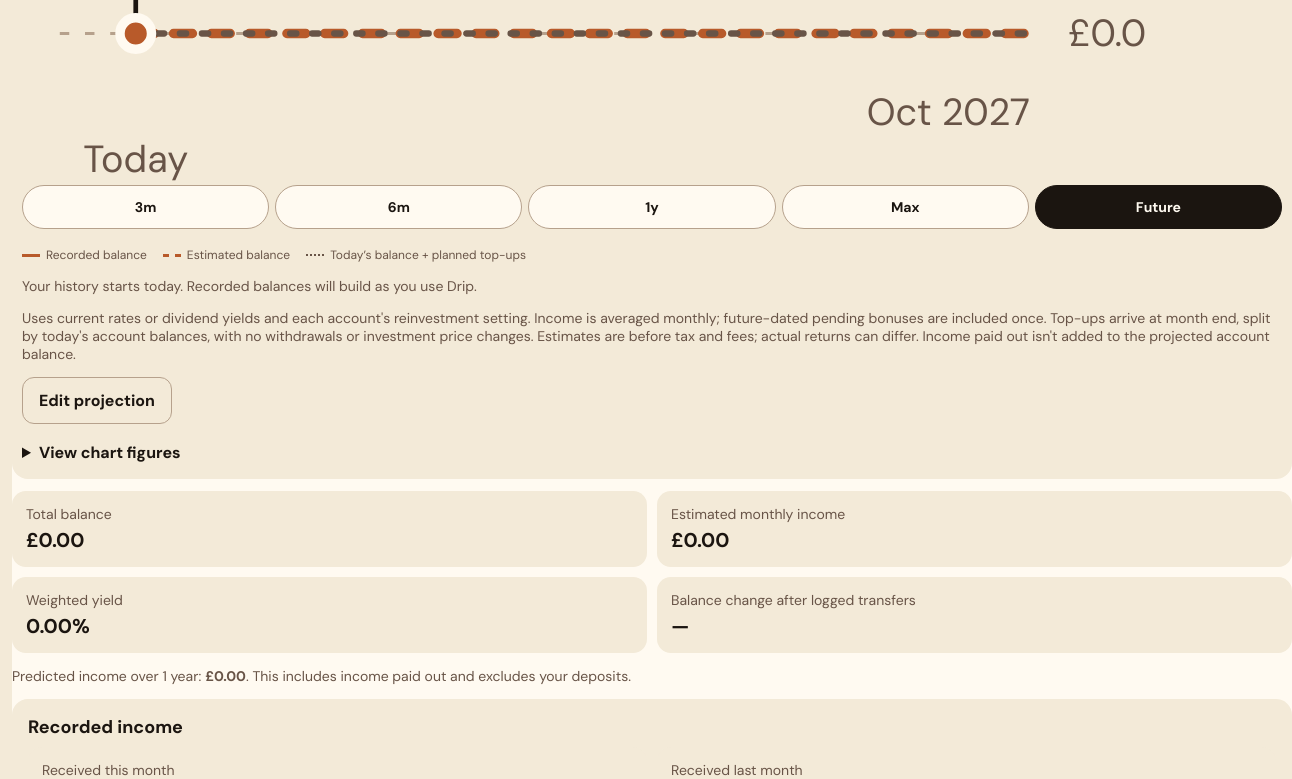
Test: projection save completion › retains entered assumptions after a false save and allows one successful retry
The width and height of the screenshot is (1292, 779).
(page scrolled)
Click the button "Edit projection". click: (97, 401)
box: [22, 377, 172, 424]
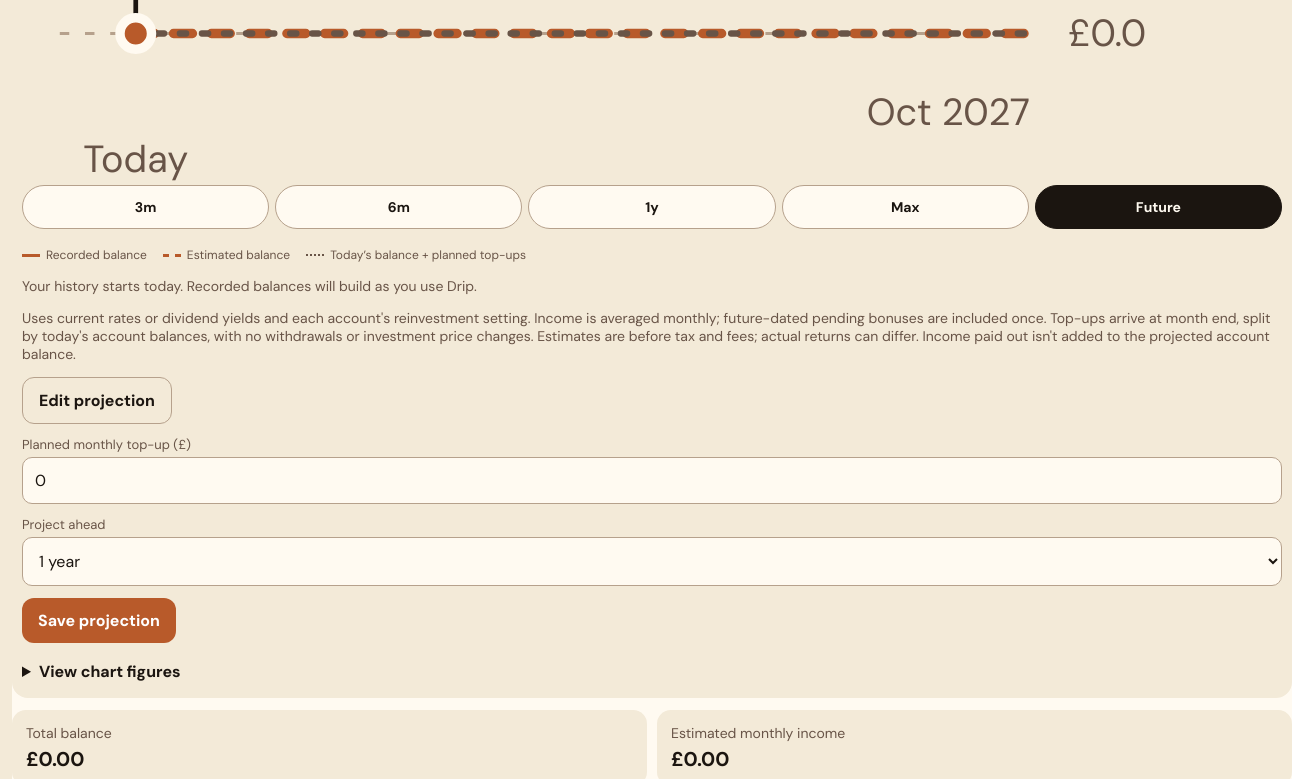
Replace the text in the number field labelled "Planned monthly top-up (£)" with "200". click: (652, 481)
box: [22, 457, 1282, 504]
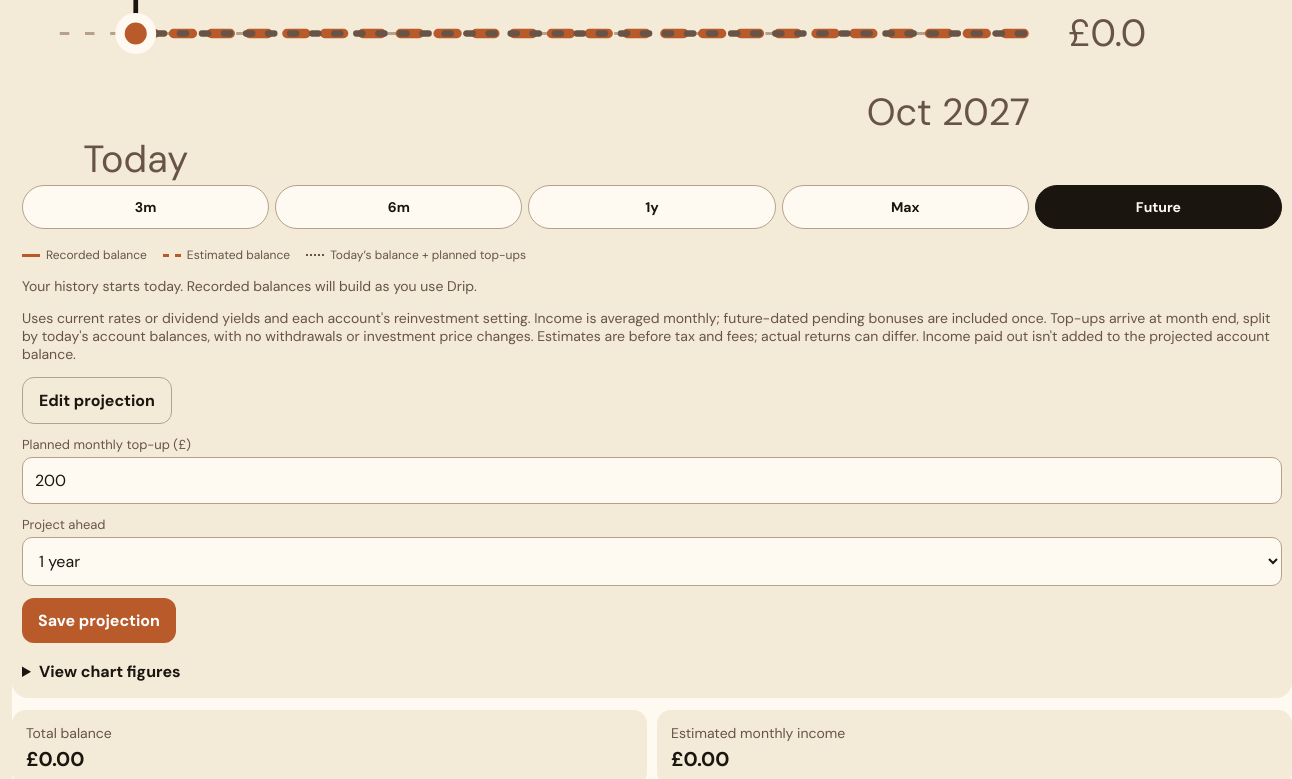
Select "3 years" in the dropdown labelled "Project ahead". click: (652, 562)
box: [22, 537, 1282, 586]
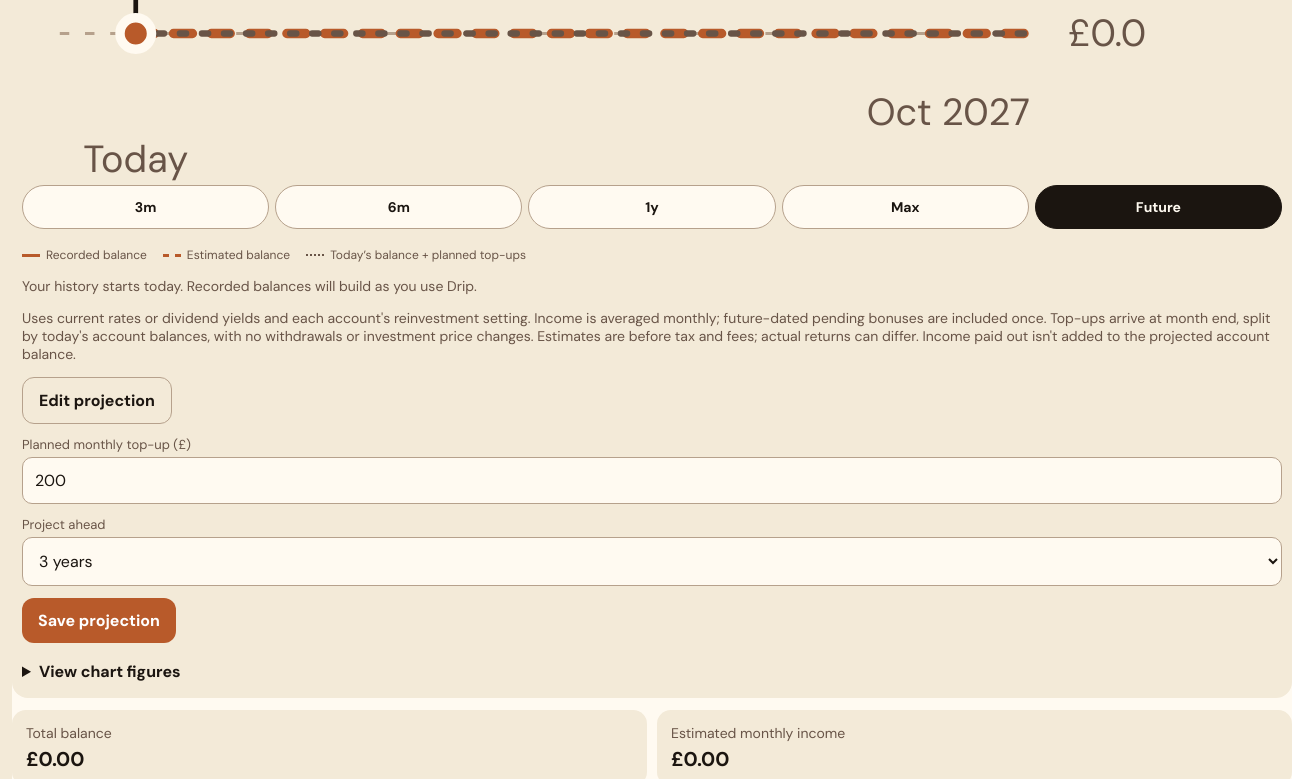
Click the button "Save projection". click: (99, 621)
box: [22, 598, 176, 643]
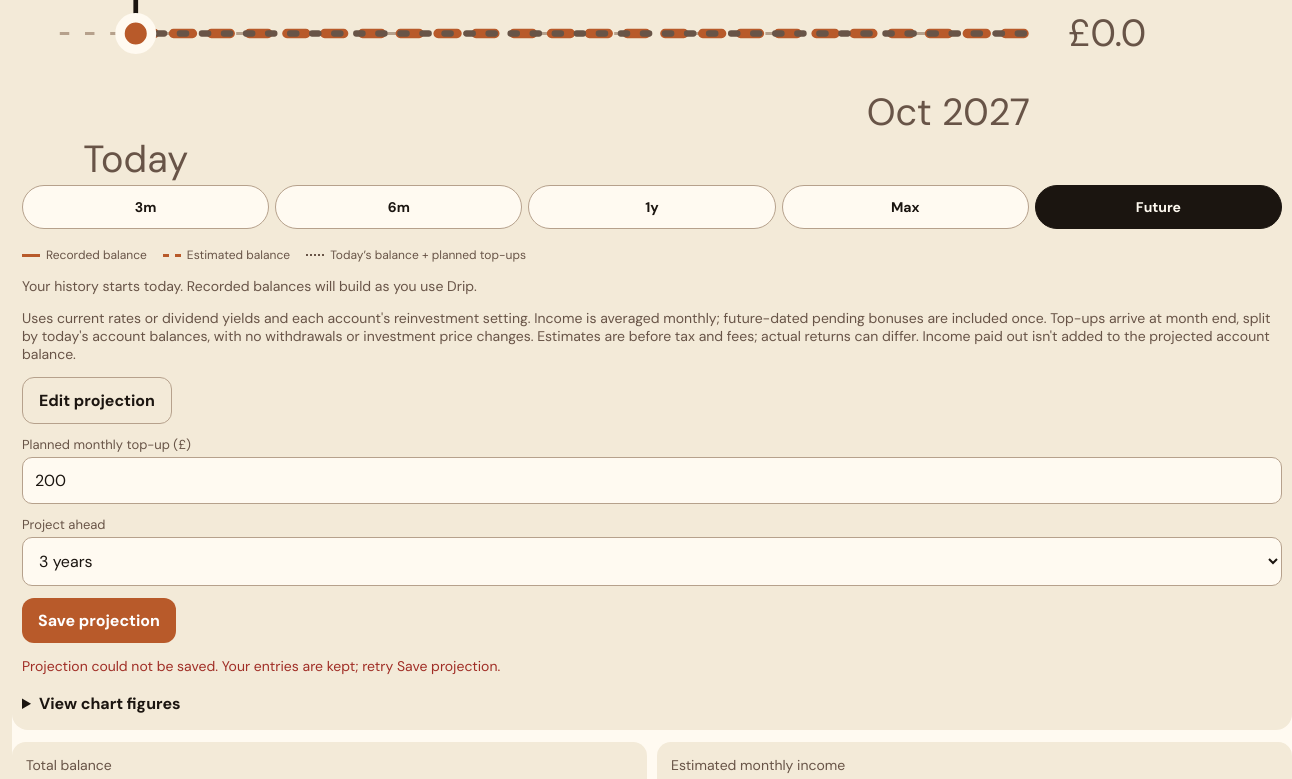
Expected: the message shows "Your entries are kept; retry", [22, 657, 500, 675]
Click the button "Save projection". click: (99, 621)
box: [22, 598, 176, 643]
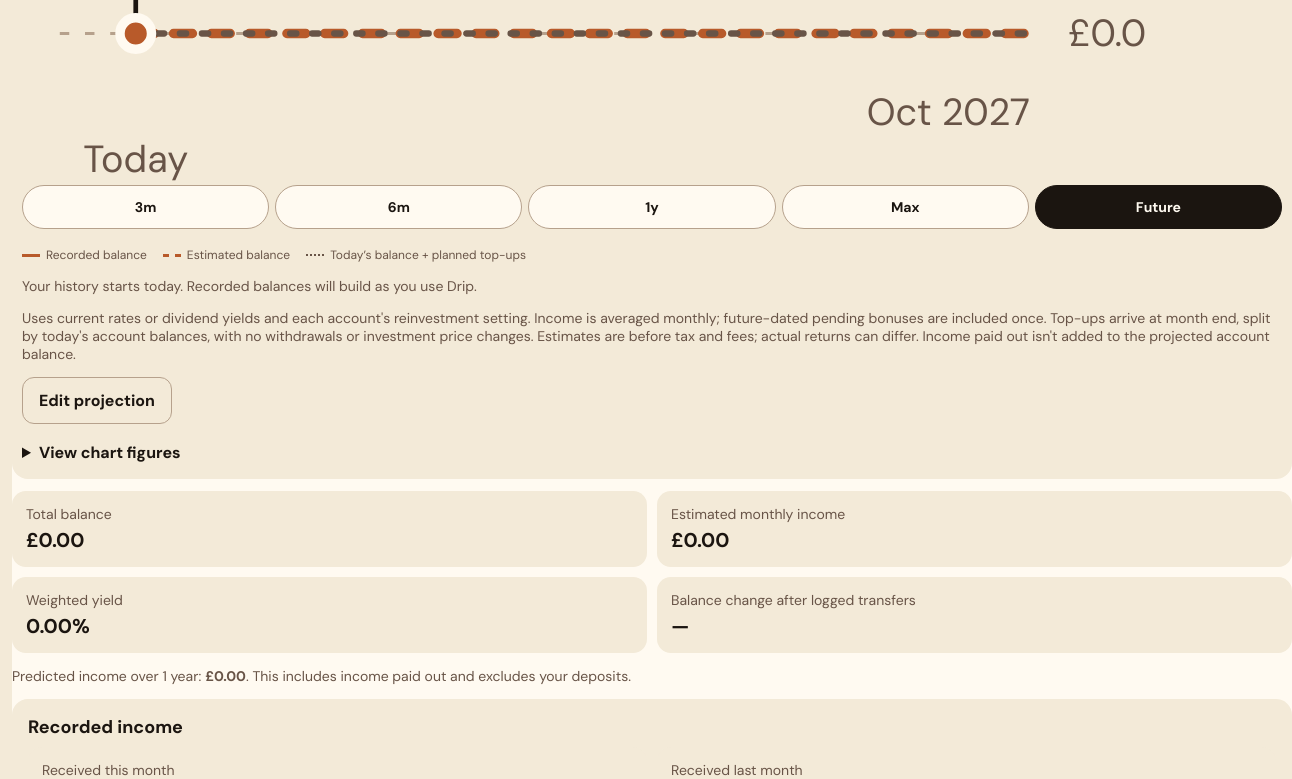
Expected: the field labelled "Planned monthly top-up (£)" is not shown
Expected: the message "Projection could not be saved. Your entries are kept; retry Save projection." is gone
